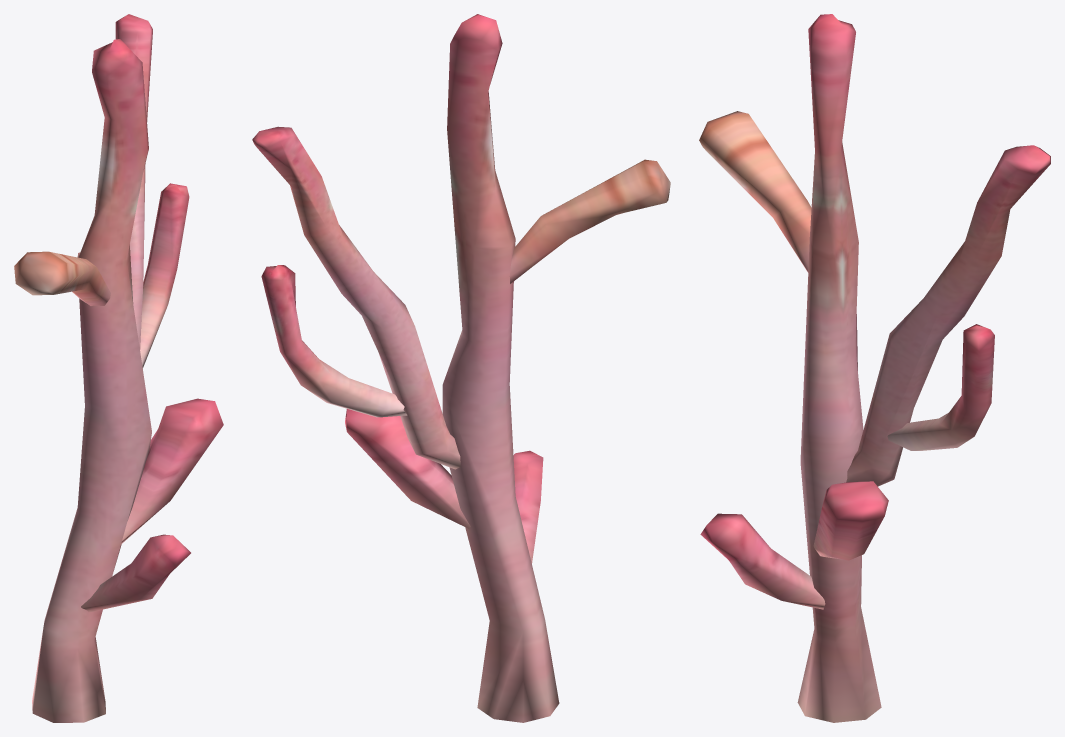
Rendered from coral_b.glb.
3 views of the same model, side by side, from view 1: azimuth 30°, elevation 25°; view 2: azimuth 150°, elevation 25°; view 3: azimuth 270°, elevation 25° (orthographic). The views are drawn at different scales.
Parts seen in each view (by area): view 1: coral_b; view 2: coral_b; view 3: coral_b.
Part boxes in pixels (x1,y1,x2,y2): coral_b: (14,14,223,722); coral_b: (252,14,670,722); coral_b: (699,14,1050,722).
Bounding box in the file's own units: 0.2622 × 0.5856 × 0.2619.
Materials: 1 (1 with a texture image).
